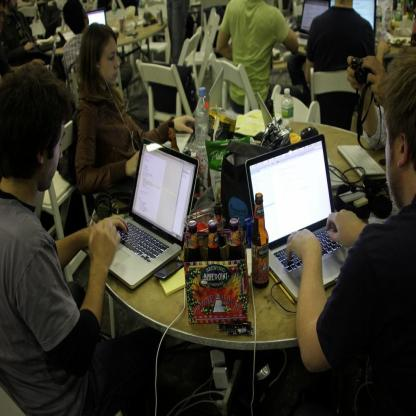board: (245, 134, 352, 304), (99, 133, 195, 294), (259, 92, 344, 188), (180, 67, 223, 158), (252, 191, 270, 289), (295, 0, 328, 46), (194, 87, 210, 159), (206, 216, 222, 260), (228, 217, 244, 259), (282, 85, 294, 132), (189, 219, 201, 262), (374, 3, 384, 40), (87, 7, 106, 26), (394, 2, 403, 38), (385, 3, 393, 34), (111, 0, 117, 27), (118, 15, 126, 35), (138, 0, 144, 26), (155, 10, 162, 28)
